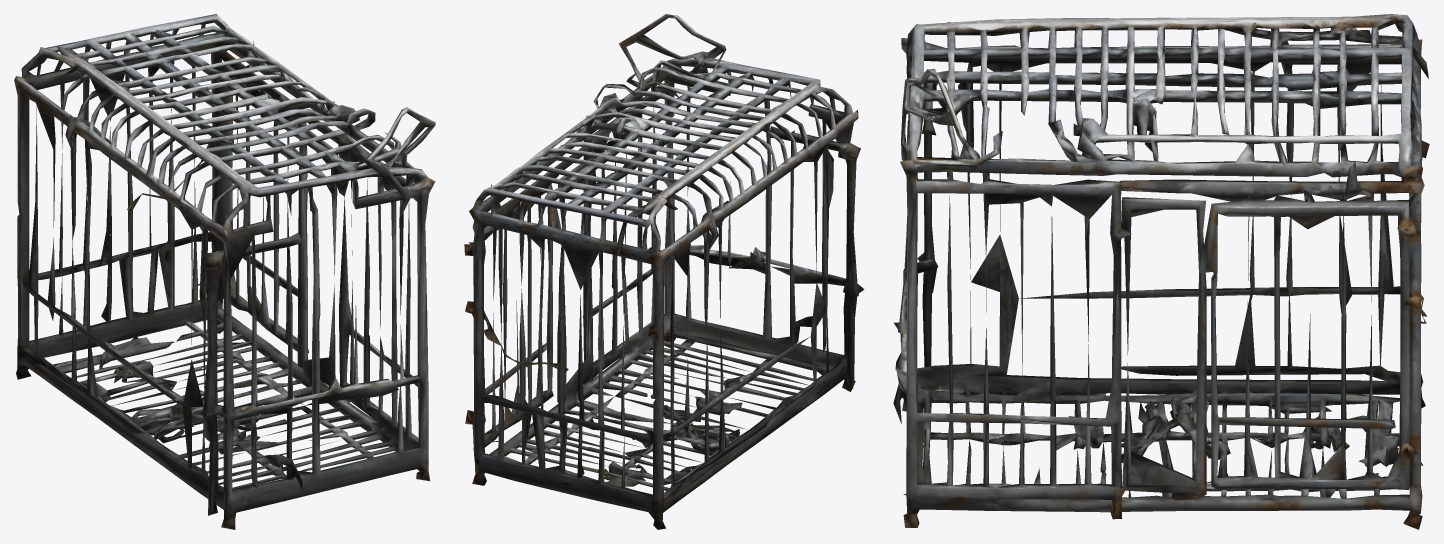
Rendered from feeding_cage.fbx.
3 renders of one model, left to right at view 1: azimuth 30°, elevation 25°; view 2: azimuth 150°, elevation 25°; view 3: azimuth 270°, elevation 25°, orthographic. The views are drawn at different scales.
Visible parts, largest first — view 1: feeding_cage; view 2: feeding_cage; view 3: feeding_cage.
Boxes of the visible parts, box(x1,y1,x2,y2) form: feeding_cage: box(14, 14, 435, 529); feeding_cage: box(464, 14, 864, 529); feeding_cage: box(893, 14, 1429, 529).
Size of the model in its own units: 1.31 by 1.85 by 2.
1 material, 1 textured.
